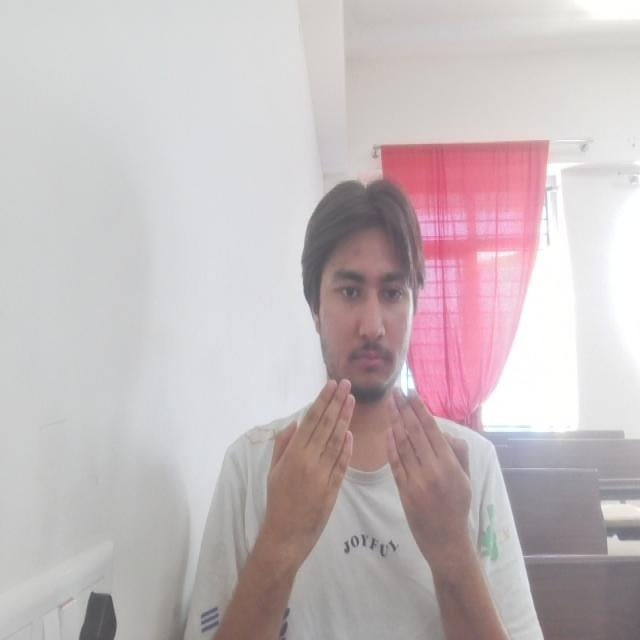thankyou: (263, 374, 476, 564)
